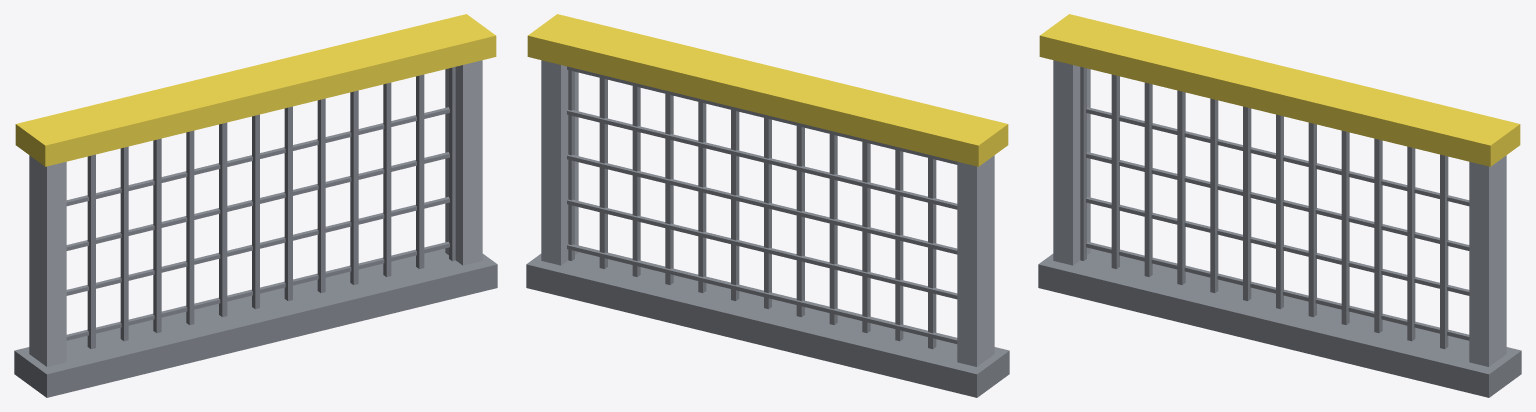
Rendered from fence_mesh.glb.
3 renders of one model, left to right at view 1: azimuth 30°, elevation 25°; view 2: azimuth 150°, elevation 25°; view 3: azimuth 330°, elevation 25°, orthographic.
Visible parts, largest first — view 1: fence_mesh; view 2: fence_mesh; view 3: fence_mesh.
Part boxes in pixels (bbox=[...]): fence_mesh: bbox=[14, 14, 497, 397]; fence_mesh: bbox=[526, 14, 1009, 397]; fence_mesh: bbox=[1038, 14, 1521, 397].
Bounding box in the file's own units: 2 × 1.06 × 0.25.
